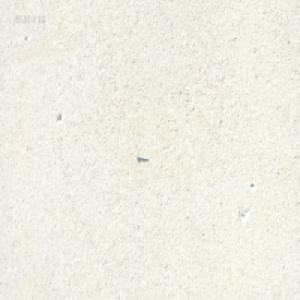Nail: (135, 153, 148, 161)
